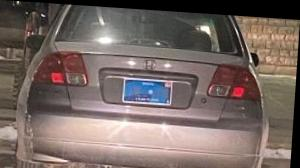License_Plate: (120, 76, 176, 108)
